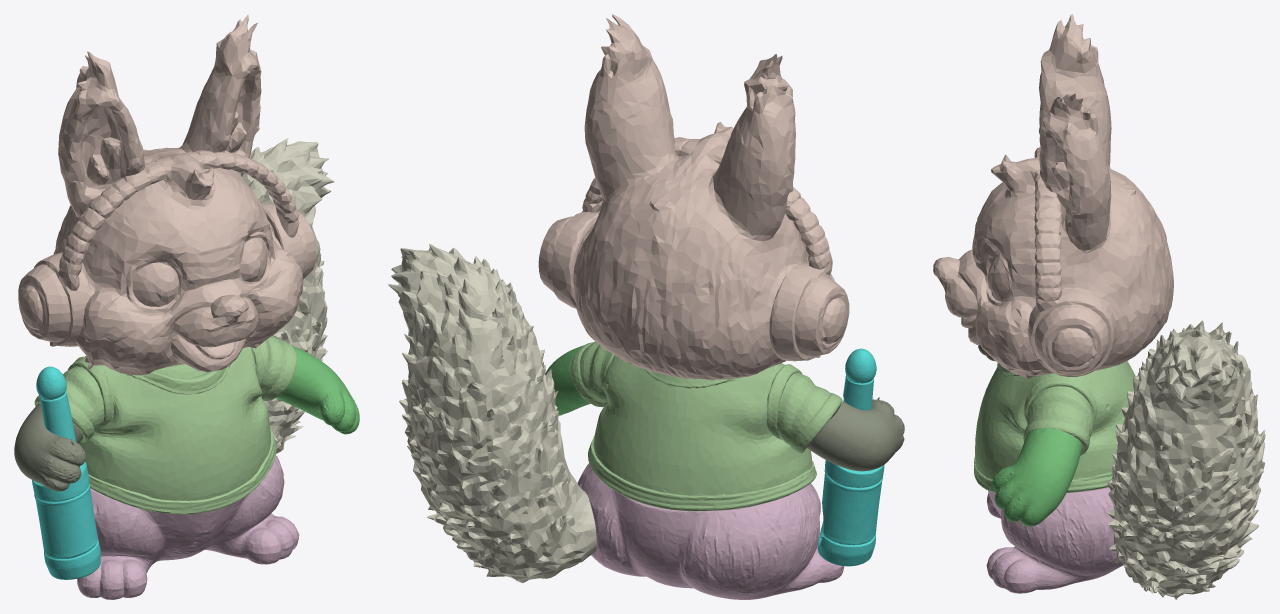
The picture shows the model from 3 angles, left to right: view 1: azimuth 30°, elevation 25°; view 2: azimuth 150°, elevation 25°; view 3: azimuth 270°, elevation 25°; orthographic projection. The views are drawn at different scales.
Visible parts, largest first — view 1: world; view 2: world; view 3: world.
Boxes of the visible parts, x1,y1,x2,y2 form: world: [14, 14, 359, 599]; world: [388, 14, 904, 599]; world: [933, 14, 1265, 599].
Bounding box in the file's own units: 1.58 × 2 × 1.21.
